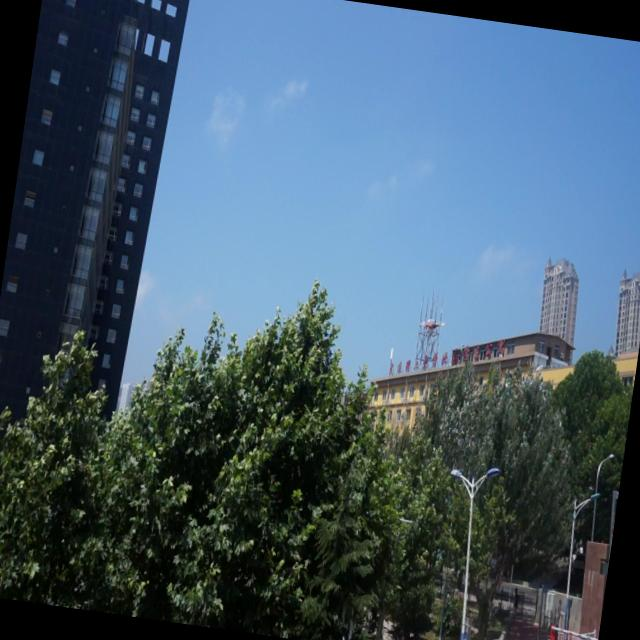drone: (418, 316, 444, 338)
